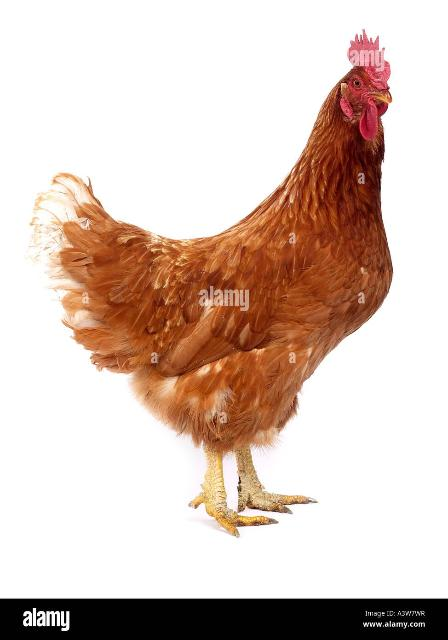Chicken: (28, 26, 399, 540)
